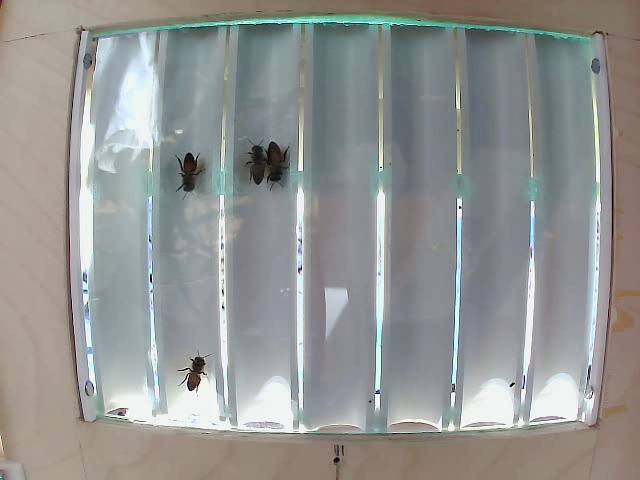bee: (259, 136, 296, 189), (168, 149, 200, 193), (240, 138, 268, 183), (179, 359, 216, 393)
